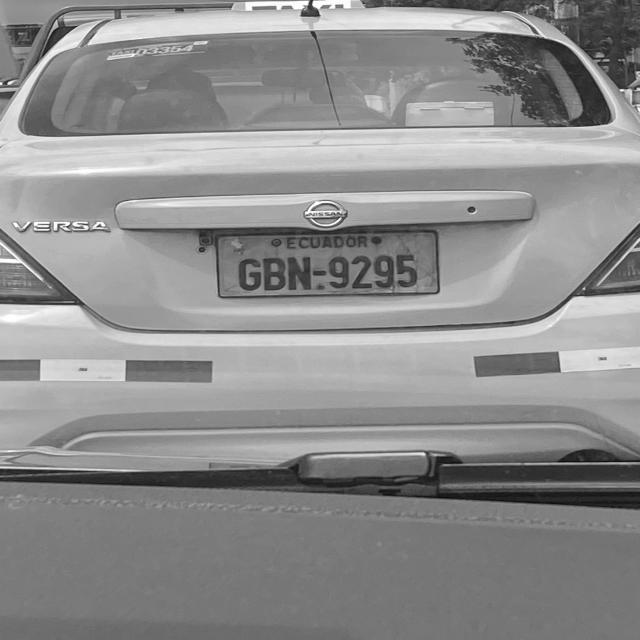Placa: (217, 231, 438, 296)
